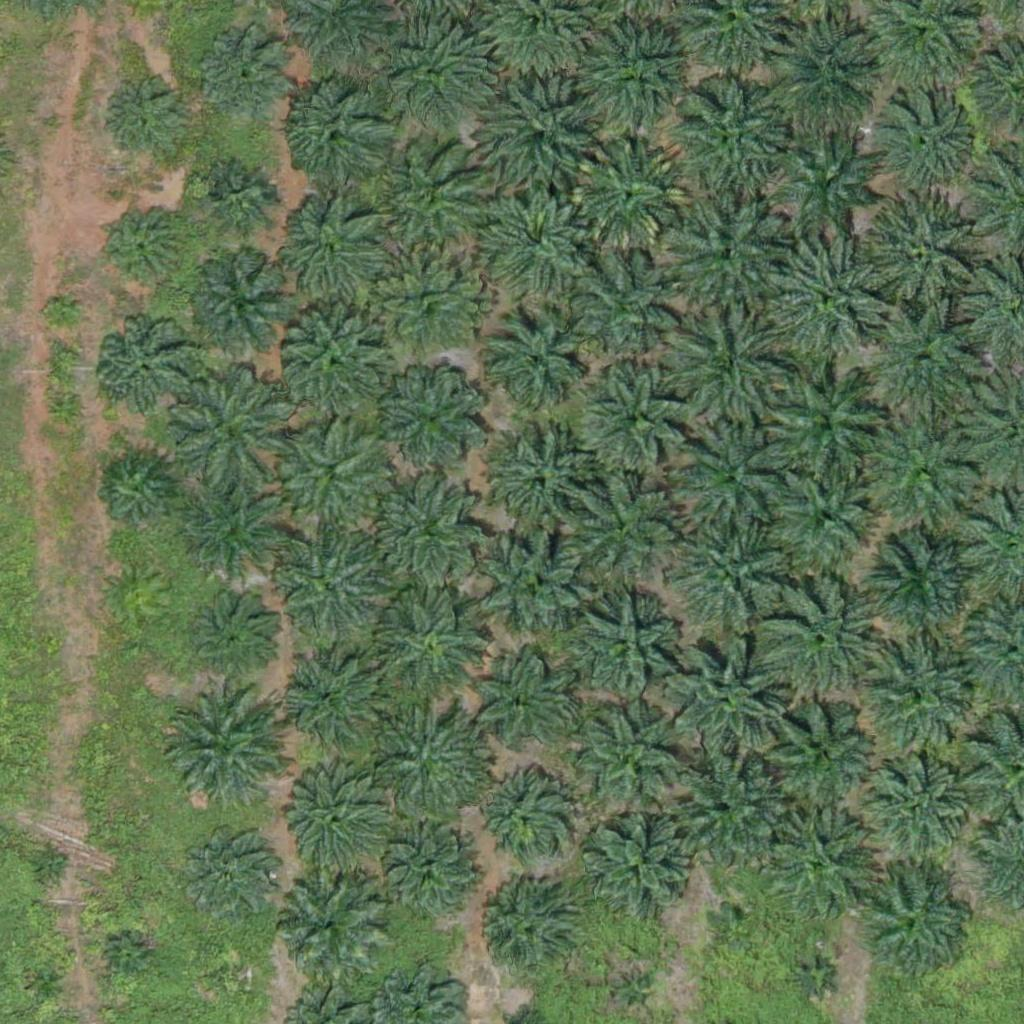Kelapa_Sawit: (855, 190, 980, 316), (863, 301, 988, 427), (759, 236, 884, 362), (763, 6, 888, 132), (667, 71, 792, 197), (665, 191, 790, 317), (655, 306, 780, 432), (165, 365, 290, 491), (158, 685, 283, 811), (568, 699, 693, 825), (671, 414, 796, 540), (669, 508, 794, 634), (664, 643, 789, 769), (664, 758, 789, 884), (761, 353, 886, 479), (765, 452, 890, 578), (761, 573, 886, 699), (751, 686, 876, 812), (853, 408, 978, 534), (370, 700, 495, 825), (579, 15, 692, 129), (853, 747, 966, 861), (865, 640, 978, 754), (374, 141, 487, 254), (368, 247, 481, 360), (280, 308, 393, 421), (270, 192, 383, 305), (280, 76, 393, 189), (378, 358, 491, 471), (486, 428, 599, 541), (269, 868, 382, 981), (373, 473, 486, 586), (373, 586, 486, 699), (471, 524, 584, 637), (585, 814, 698, 927), (857, 866, 970, 979), (868, 528, 981, 641), (565, 475, 677, 589), (573, 137, 685, 250), (572, 253, 684, 366), (479, 306, 591, 419), (479, 182, 591, 295), (486, 80, 598, 193), (377, 15, 489, 128), (580, 362, 692, 475), (278, 424, 390, 537), (179, 475, 291, 588), (274, 531, 386, 644), (276, 764, 388, 877), (567, 588, 679, 701), (764, 814, 876, 927), (875, 89, 975, 190), (198, 26, 298, 127), (190, 257, 290, 358), (179, 824, 279, 925), (282, 652, 382, 753), (380, 824, 480, 925), (470, 652, 570, 753), (472, 769, 572, 870), (470, 882, 570, 983), (777, 130, 877, 230), (94, 320, 194, 420), (103, 78, 191, 166), (101, 206, 189, 294), (191, 589, 278, 677), (100, 454, 175, 530), (202, 161, 277, 236), (789, 952, 839, 1002), (605, 967, 655, 1017), (708, 898, 758, 948), (29, 965, 67, 1003), (30, 846, 68, 884), (44, 297, 81, 335), (215, 959, 253, 996), (111, 939, 148, 977)
